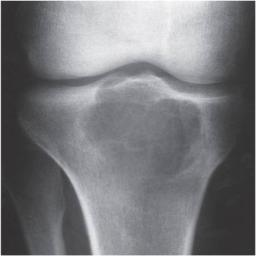cancer: (82, 81, 202, 178)
